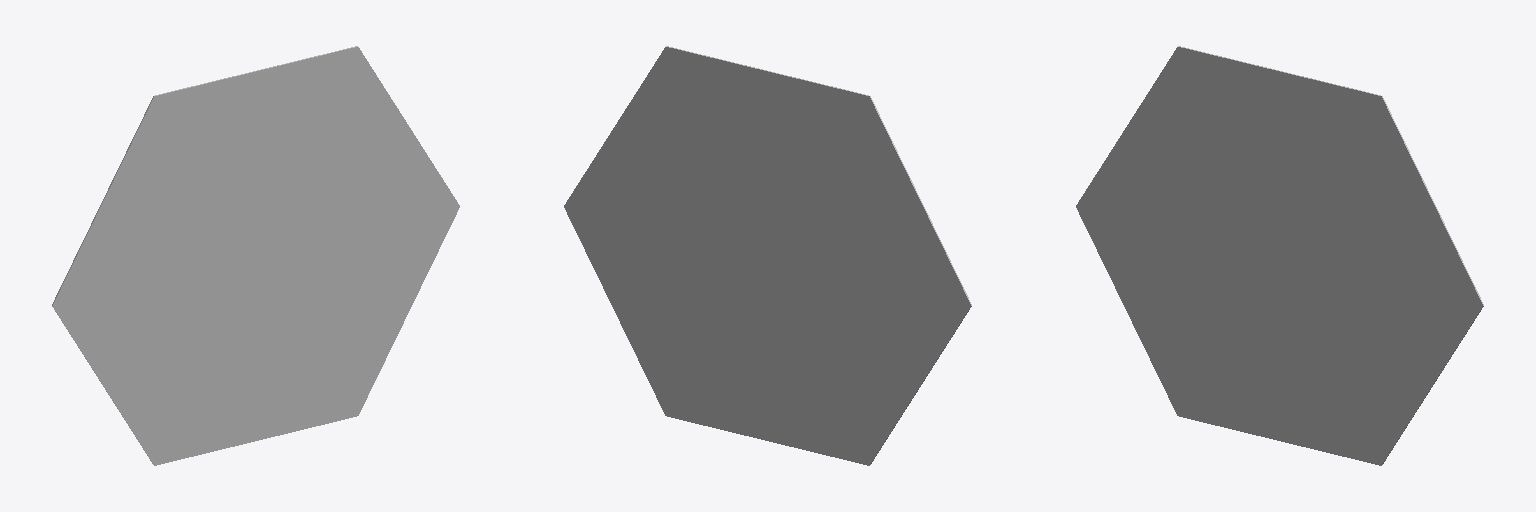
Rendered from hex.obj.
3 views of the same model, side by side, from view 1: azimuth 30°, elevation 25°; view 2: azimuth 150°, elevation 25°; view 3: azimuth 330°, elevation 25° (orthographic).
Parts seen in each view (by area): view 1: Spindle001; view 2: Spindle001; view 3: Spindle001.
Boxes of the visible parts, <box> form: Spindle001: <box>52,46,459,465</box>; Spindle001: <box>564,46,971,465</box>; Spindle001: <box>1076,46,1483,465</box>.
Size of the model in its own units: 3.01 by 2.61 by 0.0106.